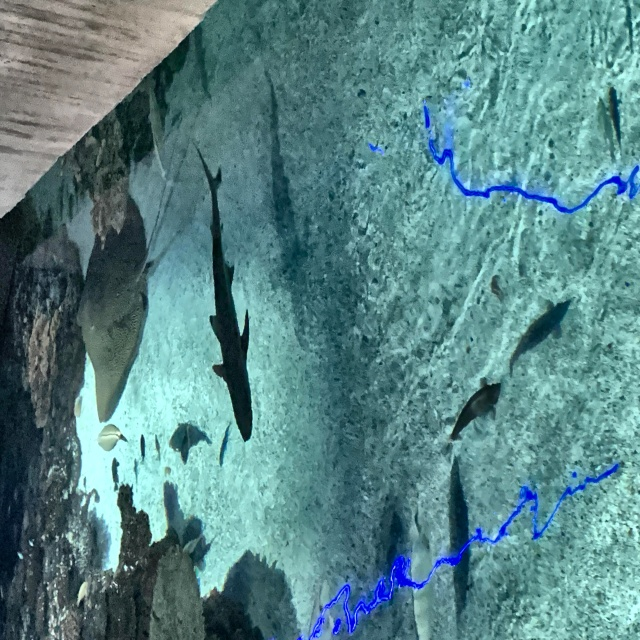fish: (509, 297, 573, 378), (443, 376, 503, 447), (607, 86, 625, 163), (95, 424, 124, 454), (218, 419, 233, 469), (180, 425, 192, 468), (111, 456, 120, 494), (139, 433, 147, 463)
shark: (209, 167, 253, 441)
stingray: (74, 187, 149, 423)
